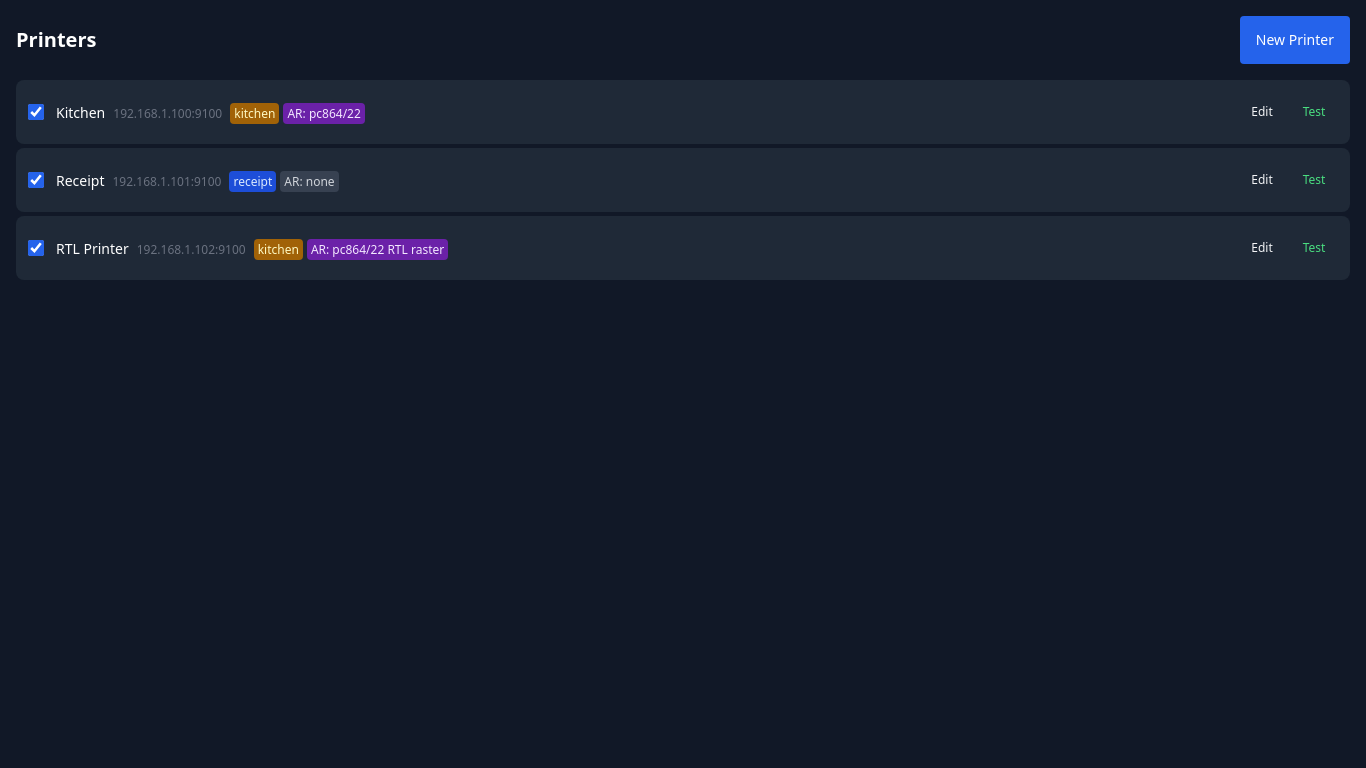
Test case: PrintersPage — config › changes code page to 22 when encoding changed to pc864
The image size is (1366, 768).
Expected: the heading "Printers" is shown, [16,26,96,54]
Click the button "New Printer" at coordinates (1295, 40), box [1240,16,1350,64]
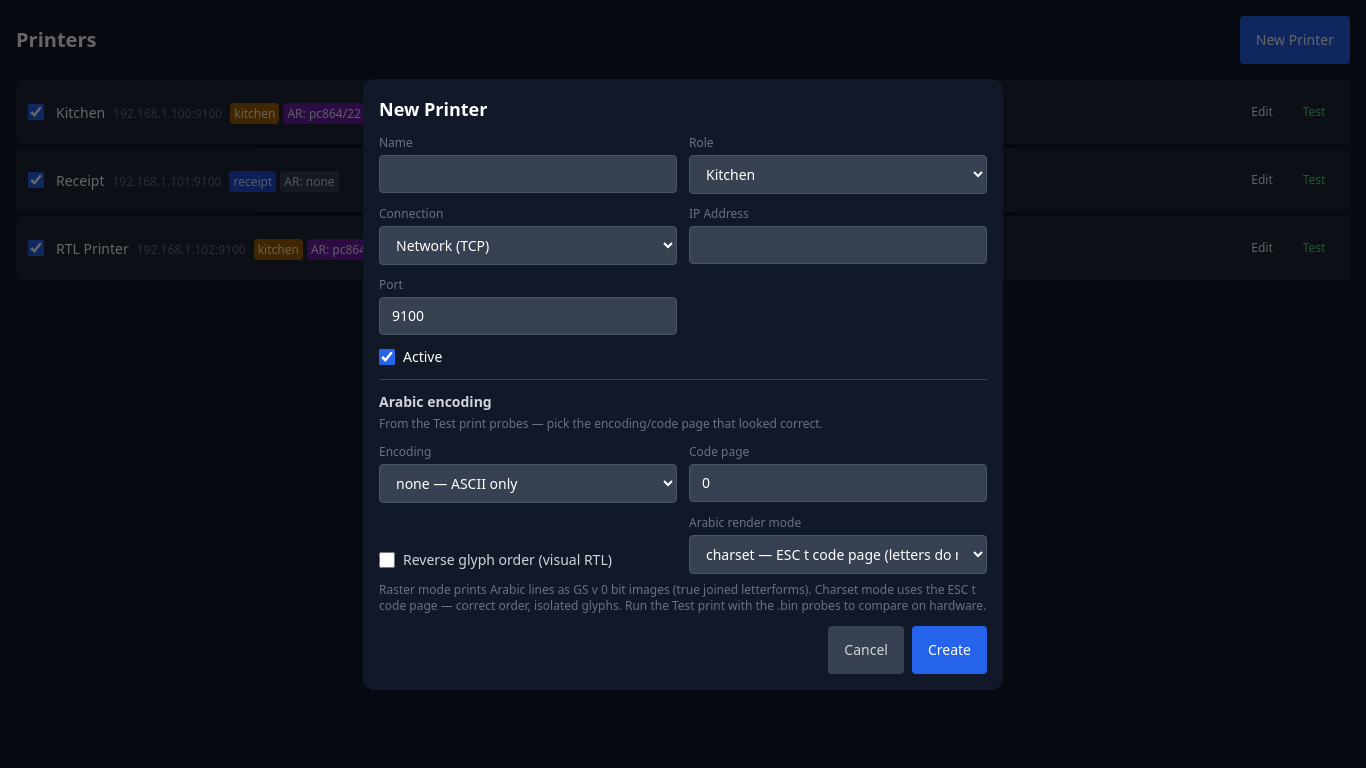
Select "pc864 — PC864 (often code page 22)" in the dropdown with test id "encoding-select" at coordinates (528, 483), box [379,464,677,502]
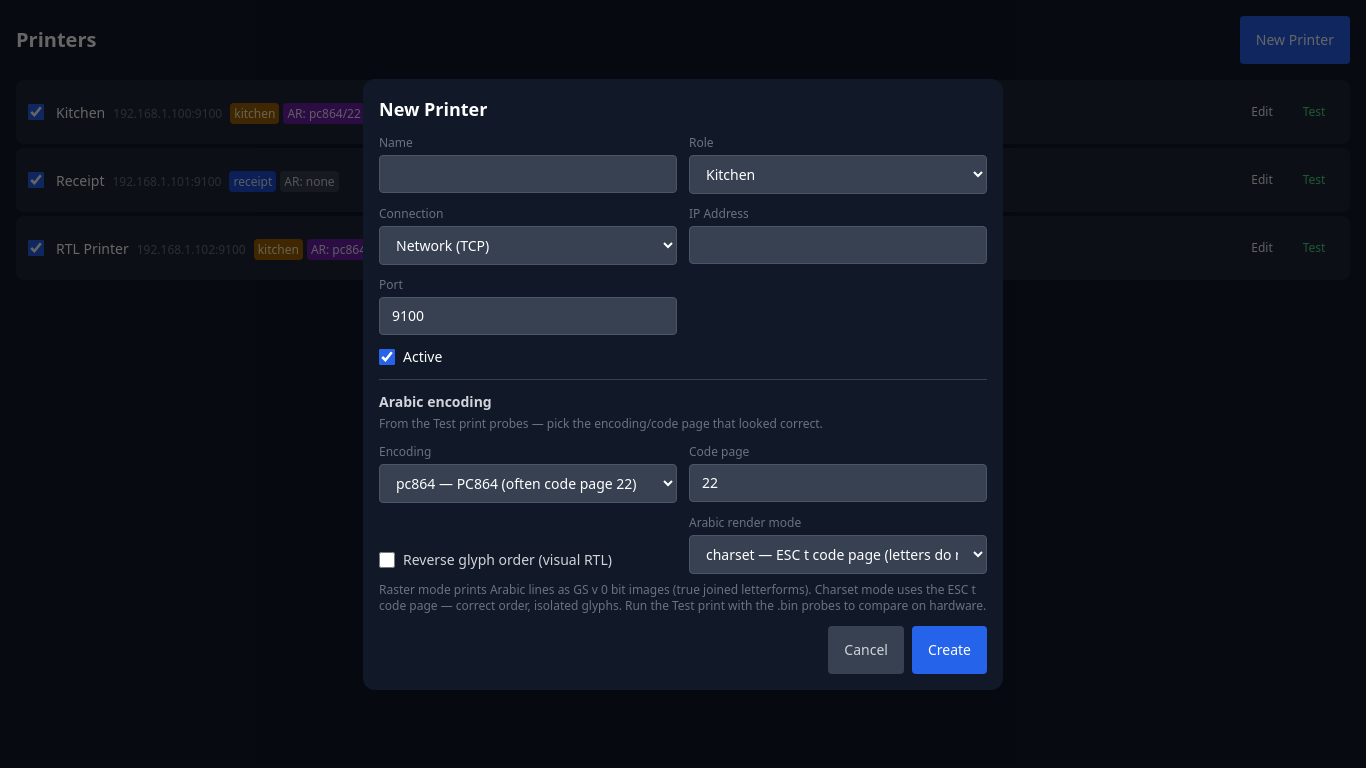
Result: the number field showing "22" is shown at [689,464,987,502]
